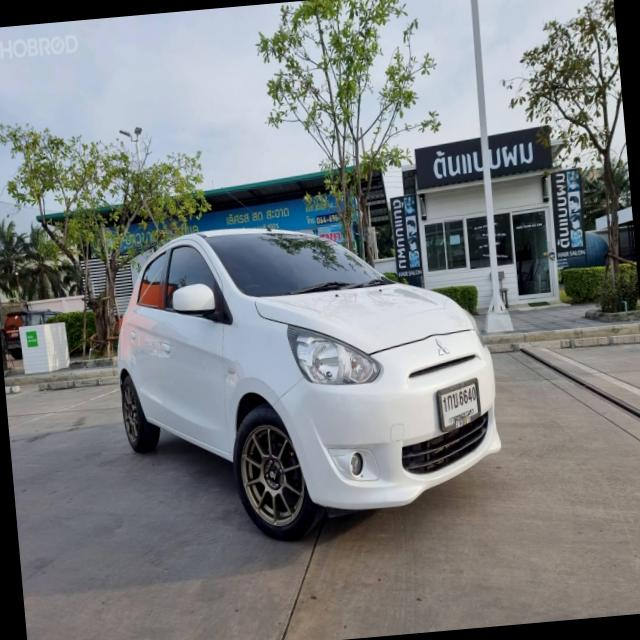license_plate: (434, 376, 484, 430)
